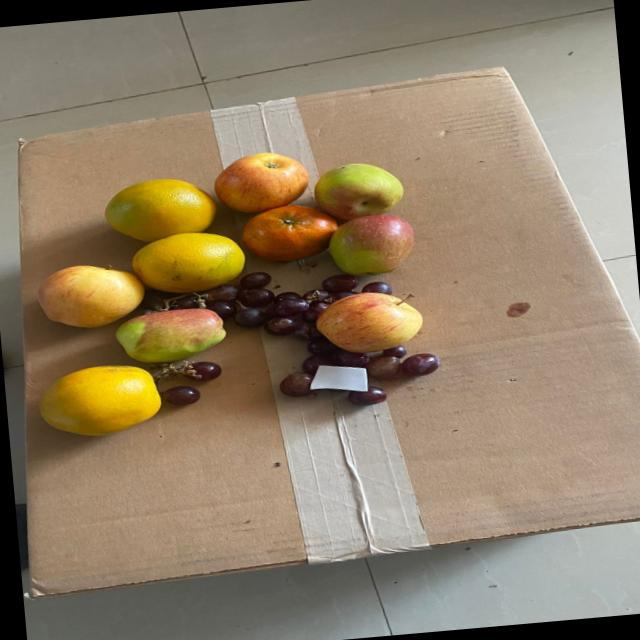hoja: (303, 364, 363, 398)
